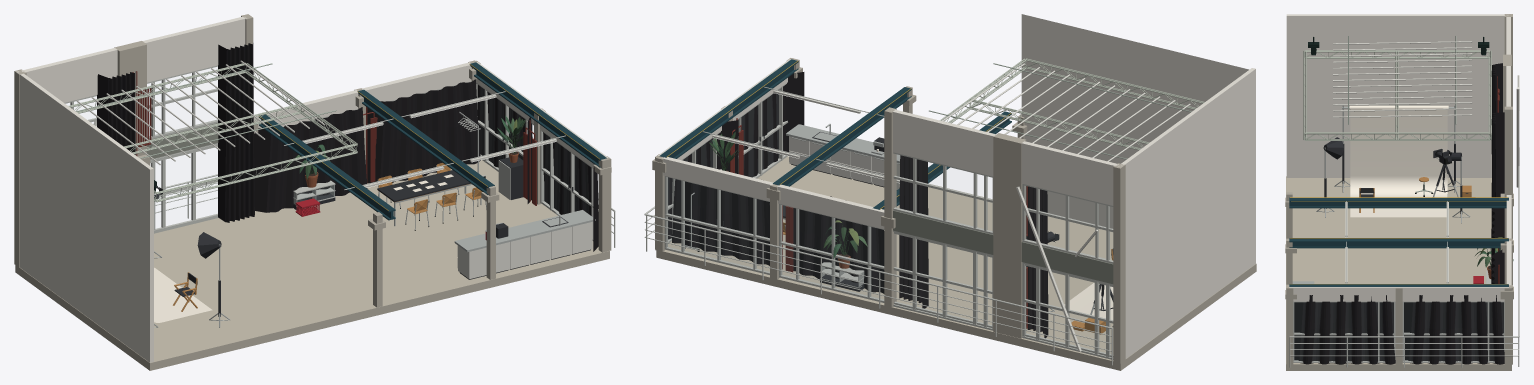
File: studio-baked.glb
3 views of the same model, side by side, from view 1: azimuth 30°, elevation 25°; view 2: azimuth 150°, elevation 25°; view 3: azimuth 270°, elevation 25° (orthographic). The views are drawn at different scales.
Visible parts, largest first — view 1: Terrazzo slab, Seamless white shooting wall, Window bay 02 • balcony elevation, Kitchen molton 2, Kitchen molton 1, Rolled I-beams • blue enamel, Pleated black molton • -0.5 m, Modular kitchen • fronts, toe kick & worktop, Box truss • shooting grid, Ceiling • linear battens, Window bay 01 • balcony elevation, Entrance-side columns and bearing blocks (+19 smaller); view 2: Seamless white shooting wall, Interior • entrance return, Terrazzo slab, Window bay 01 • balcony elevation, Window bay 02 • balcony elevation, Long façade • four structural bays, Window pier • high bay, Kitchen molton 2, Rolled I-beams • blue enamel, Window bay 03 • balcony elevation, Window bay 04 • balcony elevation, Kitchen molton 1 (+16 smaller); view 3: Seamless white shooting wall, Terrazzo slab, Film set • paper sweep, Kitchen molton 4, Kitchen molton 3, Rolled I-beams • blue enamel, Kitchen end glazing 2, Ceiling • linear battens, Box truss • shooting grid, Kitchen end glazing 1, External balcony • stainless rails, Long façade • four structural bays (+16 smaller).
Part boxes in pixels (x1,y1,x2,y2): Terrazzo slab: (15,160,609,370); Seamless white shooting wall: (16,71,153,362); Window bay 02 • balcony elevation: (142,16,246,233); Kitchen molton 2: (367,79,480,183); Kitchen molton 1: (254,107,367,212); Rolled I-beams • blue enamel: (258,62,606,220); Pleated black molton • -0.5 m: (218,43,254,222); Modular kitchen • fronts, toe kick & worktop: (454,210,595,279); Box truss • shooting grid: (68,62,357,202); Ceiling • linear battens: (76,60,336,165); Window bay 01 • balcony elevation: (21,48,117,126); Entrance-side columns and bearing blocks: (368,158,611,307); Seamless white shooting wall: (1118,68,1255,358); Interior • entrance return: (1021,14,1248,228); Terrazzo slab: (656,156,1256,370); Window bay 01 • balcony elevation: (1016,141,1118,359); Window bay 02 • balcony elevation: (893,109,996,330); Long façade • four structural bays: (652,107,1125,363); Window pier • high bay: (993,133,1026,338); Kitchen molton 2: (672,168,769,265); Rolled I-beams • blue enamel: (659,59,1011,209); Window bay 03 • balcony elevation: (777,184,884,302); Window bay 04 • balcony elevation: (662,157,773,274); Kitchen molton 1: (786,196,884,293); Seamless white shooting wall: (1286,14,1508,177); Terrazzo slab: (1286,176,1511,370); Film set • paper sweep: (1334,105,1462,217); Kitchen molton 4: (1294,295,1395,364); Kitchen molton 3: (1404,295,1504,364); Rolled I-beams • blue enamel: (1289,197,1508,286); Kitchen end glazing 2: (1286,285,1511,364); Ceiling • linear battens: (1333,36,1472,124); Box truss • shooting grid: (1303,50,1491,140); Kitchen end glazing 1: (1289,287,1398,362); External balcony • stainless rails: (1289,147,1519,367); Long façade • four structural bays: (1500,14,1513,364).
Bounding box in the file's own units: 14.45 × 5.93 × 7.47.
